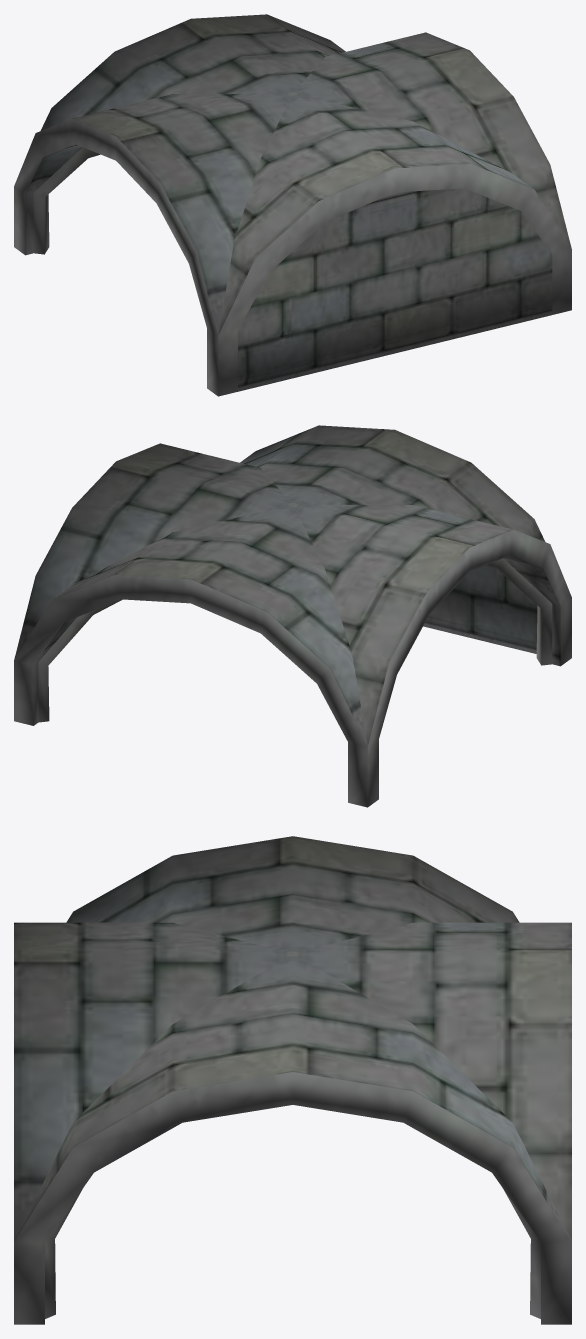
Rendered from sd_vault_ceiling_large_02.glb.
3 renders of one model, top to bottom at view 1: azimuth 30°, elevation 25°; view 2: azimuth 150°, elevation 25°; view 3: azimuth 270°, elevation 25°, orthographic. The views are drawn at different scales.
Parts seen in each view (by area): view 1: vault_ceiling_large_02; view 2: vault_ceiling_large_02; view 3: vault_ceiling_large_02.
Boxes of the visible parts, box(x1,y1,x2,y2) form: vault_ceiling_large_02: box(14, 14, 571, 396); vault_ceiling_large_02: box(14, 425, 571, 807); vault_ceiling_large_02: box(14, 836, 571, 1324).
Size of the model in its own units: 4 by 2 by 4.
1 material, 1 textured.
